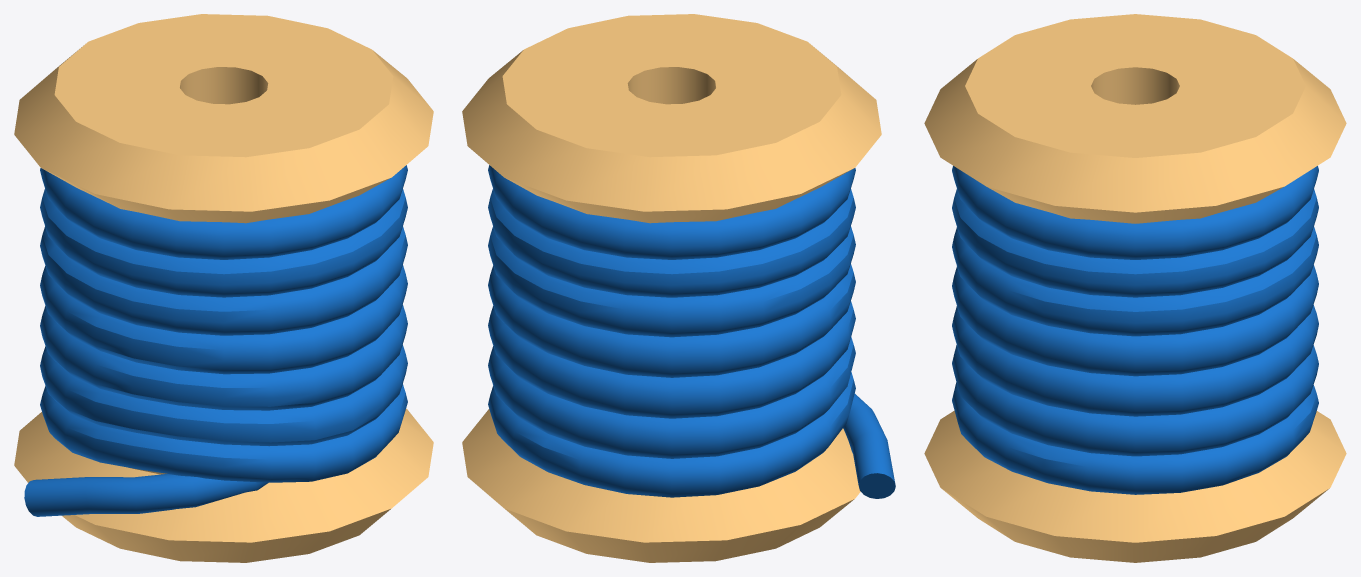
Rendered from thread.glb.
The picture shows the model from 3 angles, left to right: view 1: azimuth 30°, elevation 25°; view 2: azimuth 150°, elevation 25°; view 3: azimuth 270°, elevation 25°; orthographic projection.
Parts seen in each view (by area): view 1: Torus; view 2: Torus; view 3: Torus.
Boxes of the visible parts, x1,y1,x2,y2 form: Torus: (14,14,433,562); Torus: (462,14,895,562); Torus: (924,14,1346,562).
Size of the model in its own units: 2.04 by 2.01 by 1.9.
1 material, 1 textured.
